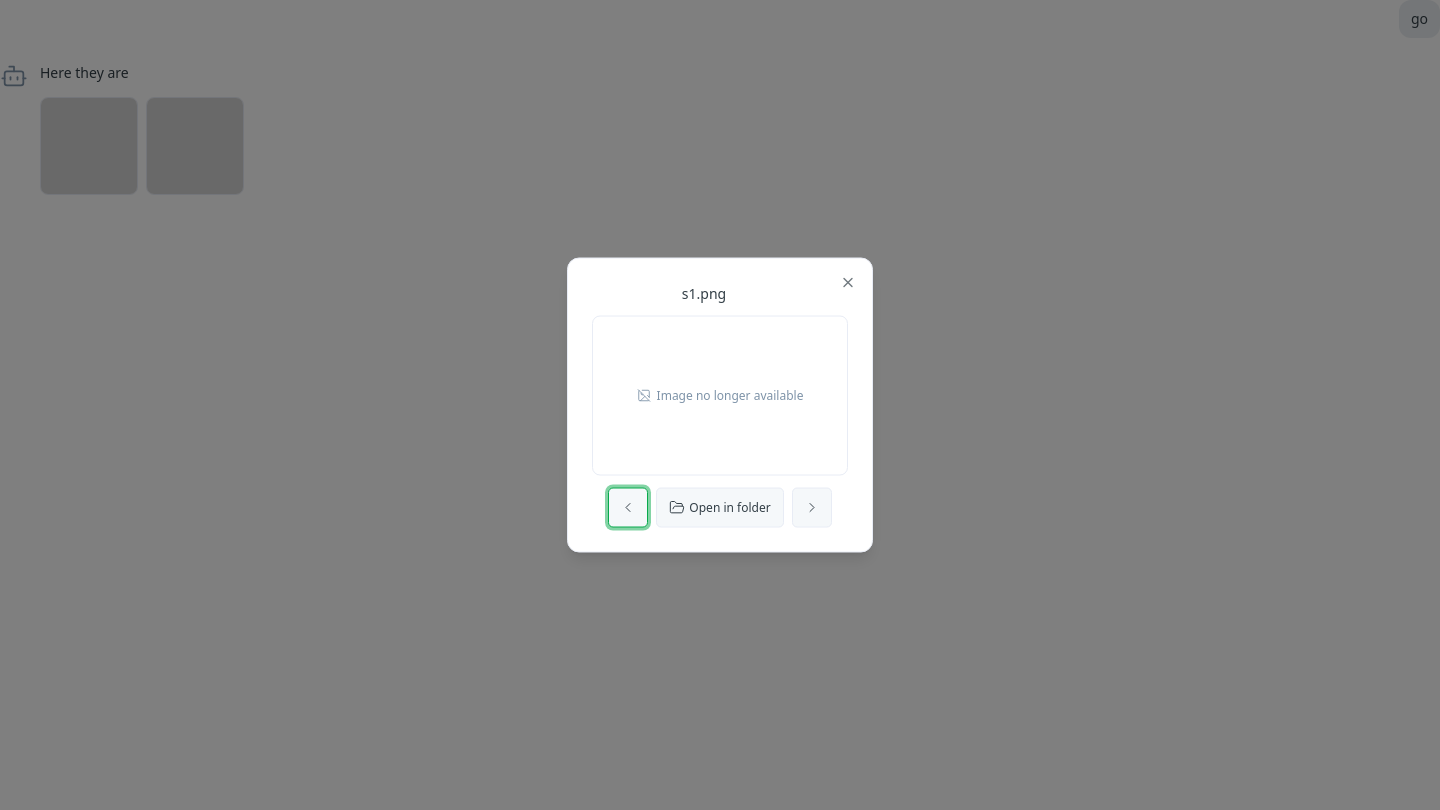
Test: the image strip › steps from a missing image straight to the next one
Earlier steps of the test are not shown.
Check: the text "Image no longer available" is shown, box [592,316,848,476]
Click the button named "Next image" at (812, 508), box [792,488,832,528]
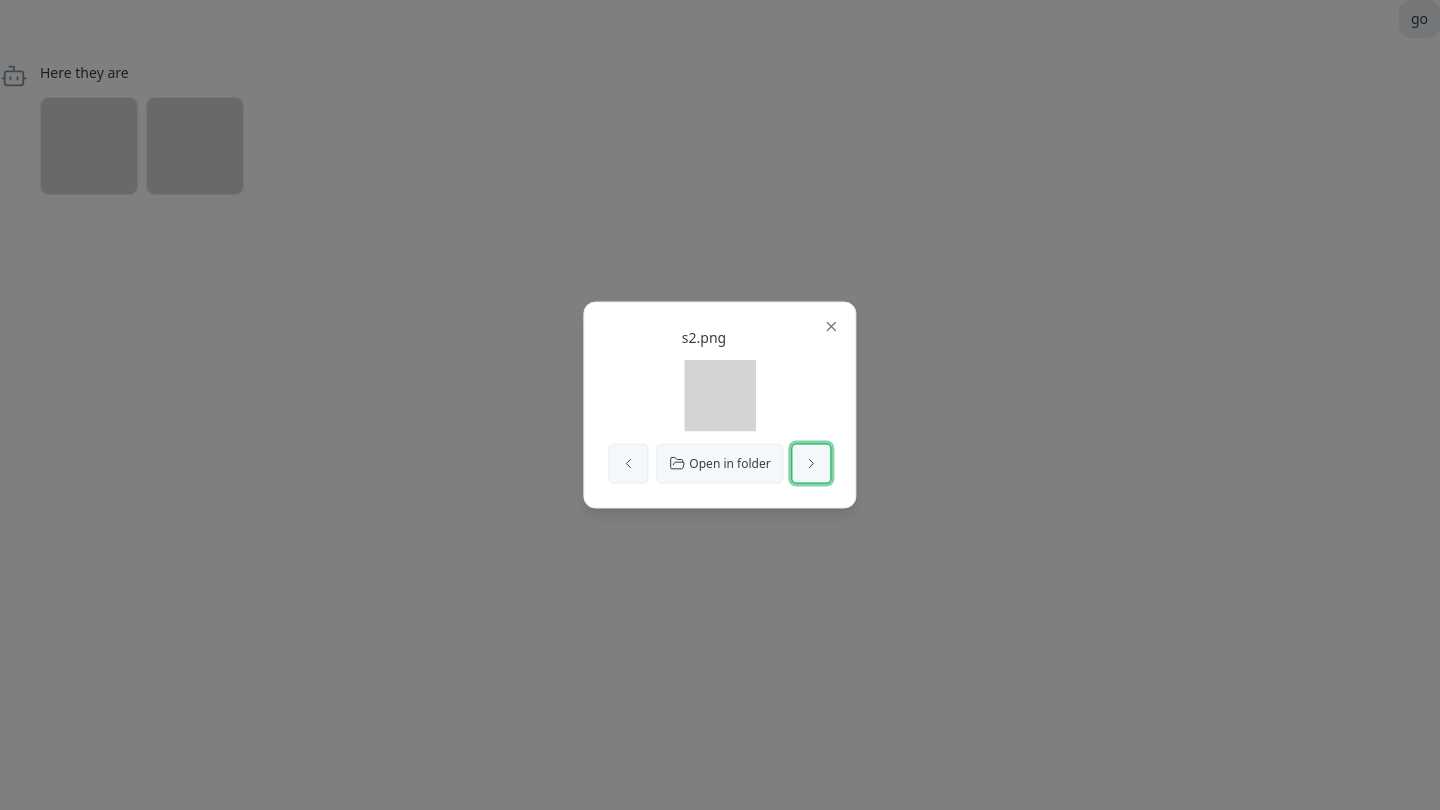
Check: the text "Image no longer available" is gone
